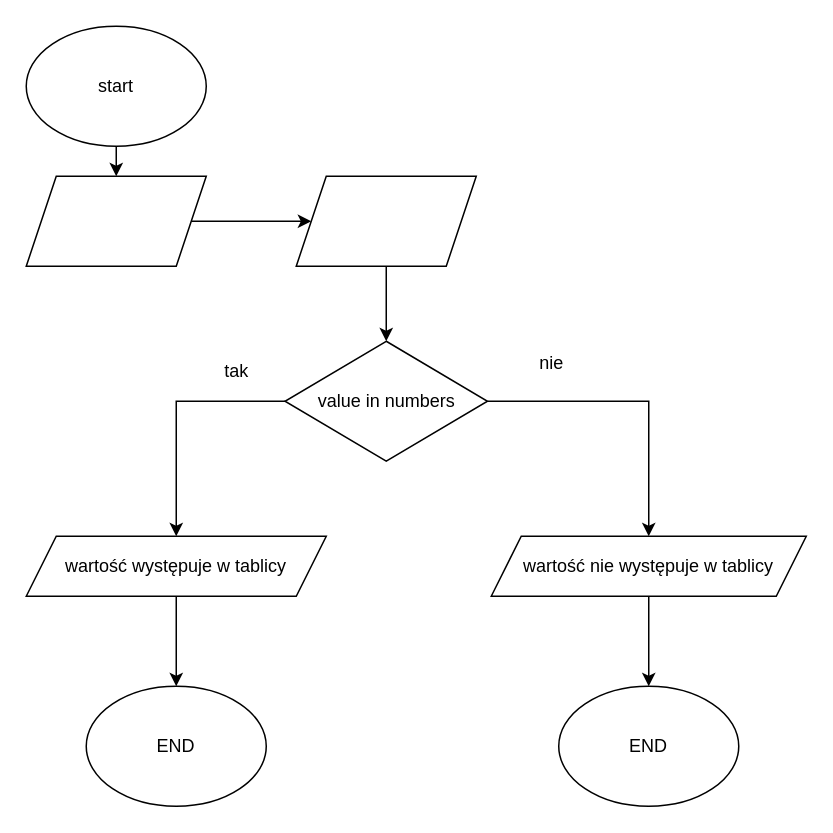
This 833x833 diagram has some shape labels left out. The centre of each missing label's shape, as x and y in pixels:
numbers: the point at 115,220
podaj value: the point at 385,220
